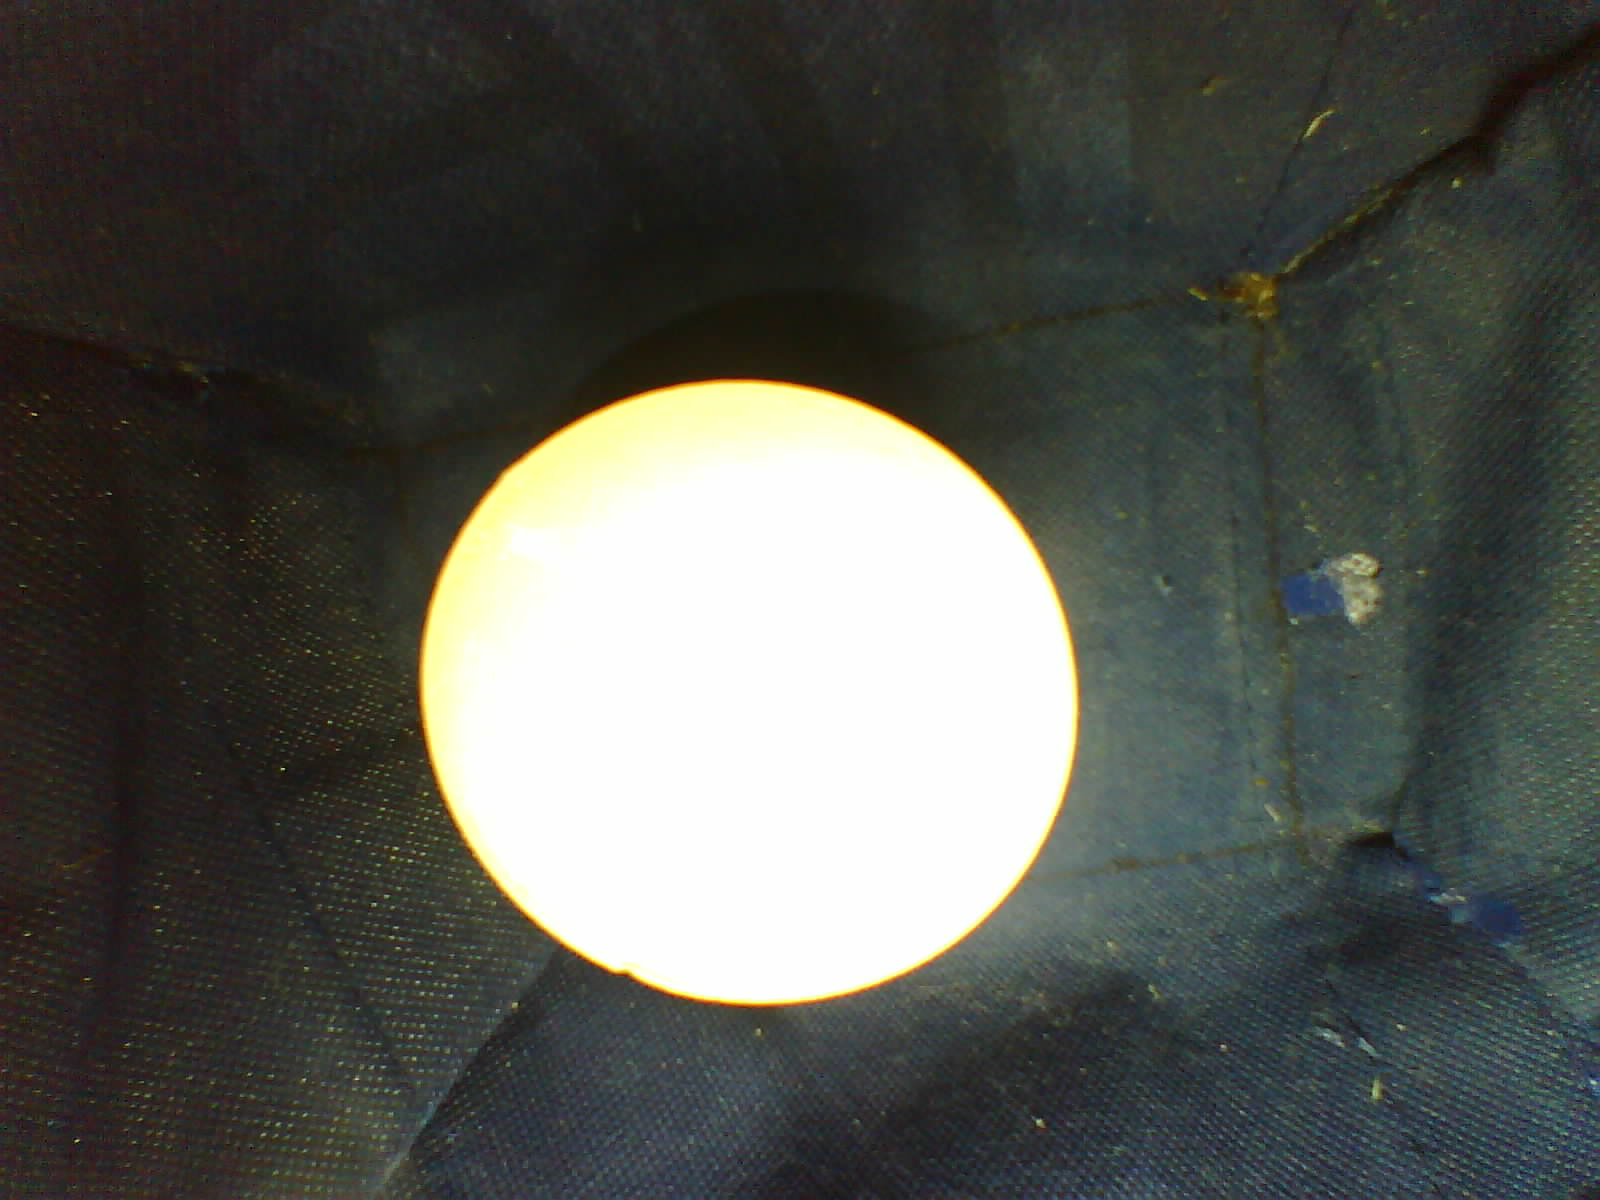cylinder-hard: (399, 354, 1094, 1030)
